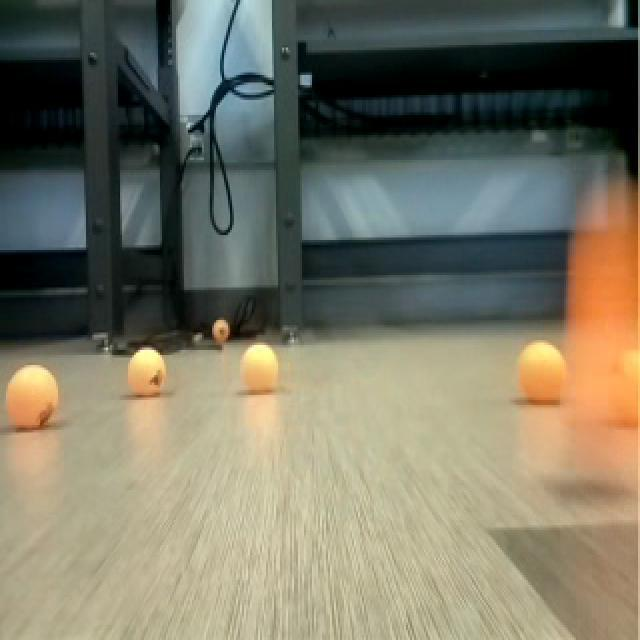oball: (512, 332, 576, 416), (6, 355, 62, 437), (607, 345, 640, 433), (122, 342, 170, 400), (239, 338, 285, 396), (214, 313, 232, 350)
